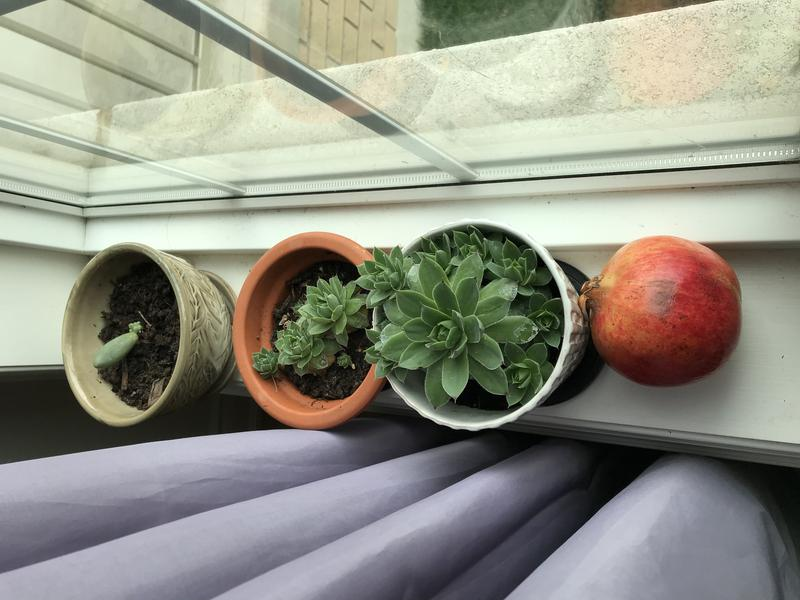pomegranate: (571, 229, 748, 392)
